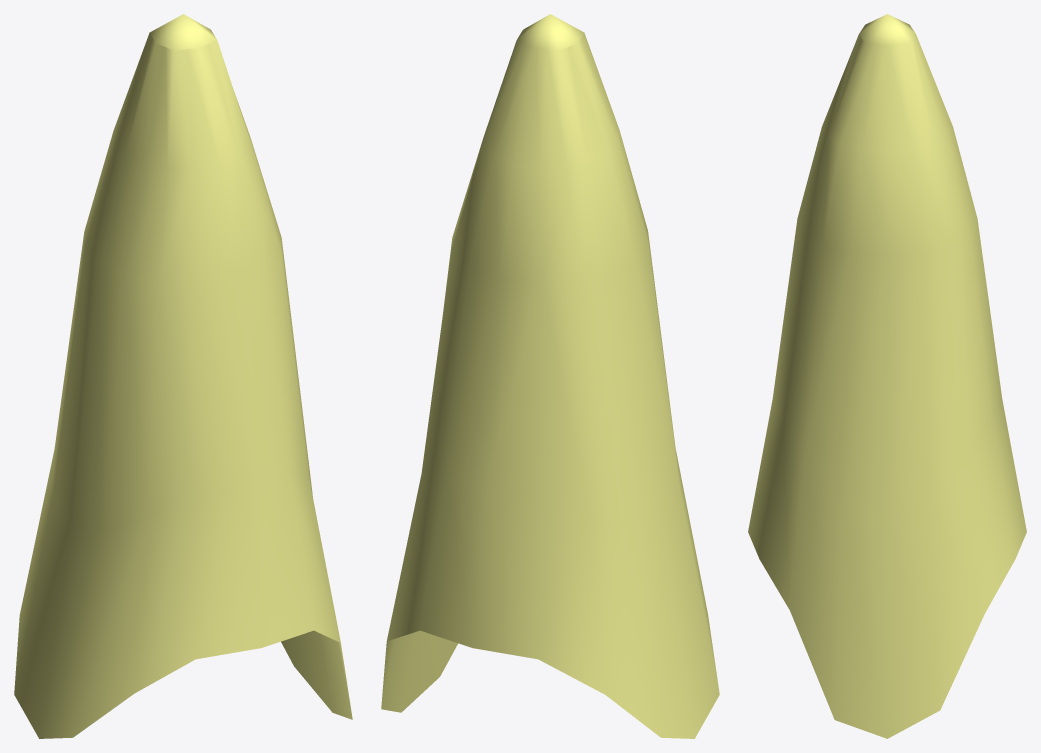
Rendered from D11R_Raiz.obj.
3 renders of one model, left to right at view 1: azimuth 30°, elevation 25°; view 2: azimuth 150°, elevation 25°; view 3: azimuth 270°, elevation 25°, orthographic. The views are drawn at different scales.
Visible parts, largest first — view 1: D11R_Raiz; view 2: D11R_Raiz; view 3: D11R_Raiz.
Part boxes in pixels (box(x1,y1,x2,y2)): D11R_Raiz: box(14, 14, 352, 738); D11R_Raiz: box(381, 14, 719, 738); D11R_Raiz: box(748, 14, 1026, 738).
Size of the model in its own units: 6.89 by 16.49 by 6.32.
